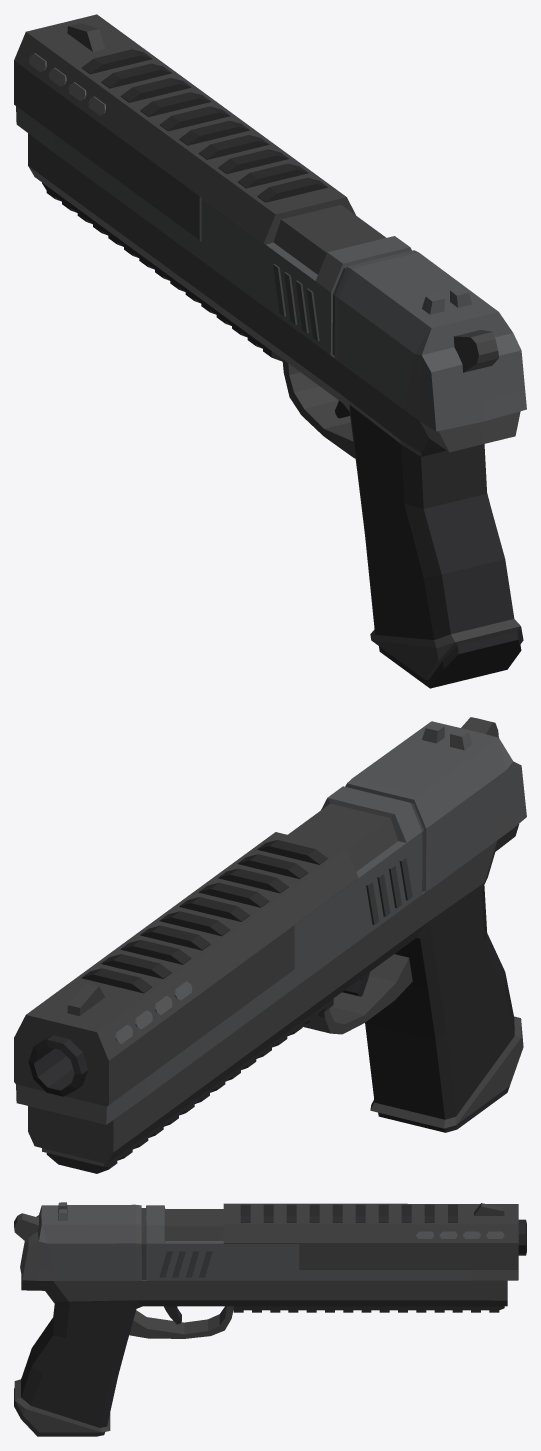
Rendered from pistol_plus.glb.
3 renders of one model, top to bottom at view 1: azimuth 30°, elevation 25°; view 2: azimuth 150°, elevation 25°; view 3: azimuth 270°, elevation 25°, orthographic. The views are drawn at different scales.
Parts seen in each view (by area): view 1: Pistol_6; view 2: Pistol_6; view 3: Pistol_6.
Boxes of the visible parts, <box> form: Pistol_6: <box>14,14,526,688</box>; Pistol_6: <box>14,717,526,1173</box>; Pistol_6: <box>14,1202,526,1436</box>.
Size of the model in its own units: 0.0303 by 0.1139 by 0.24.
Materials: 1 (1 with a texture image).
